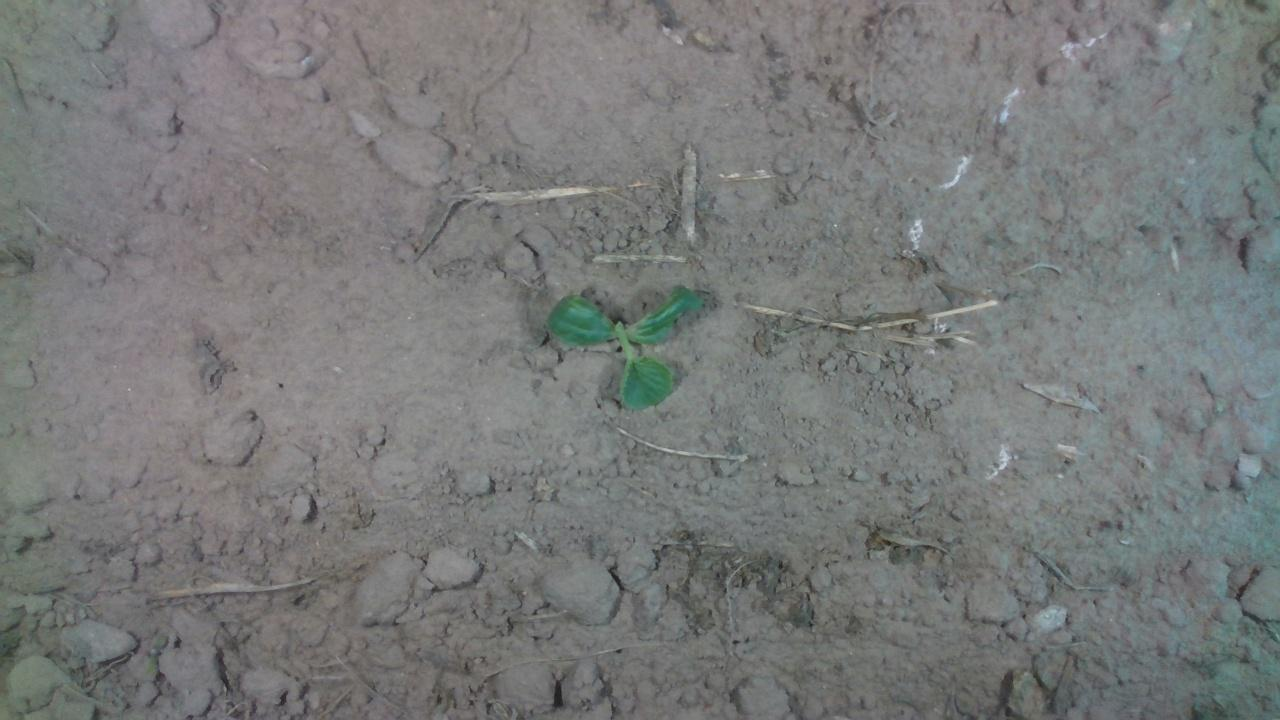crop: (543, 281, 704, 413)
